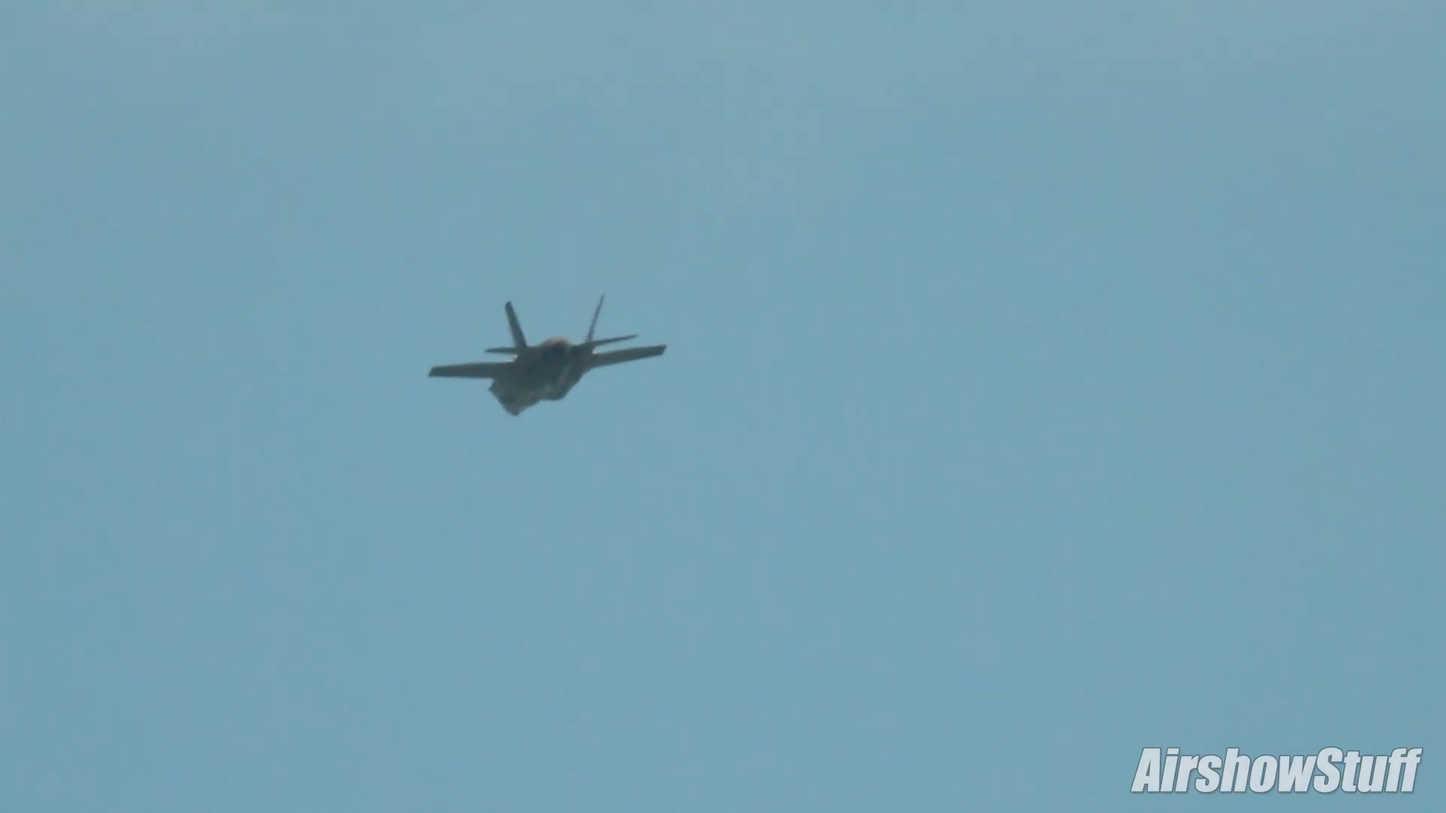F35: (416, 286, 680, 426)
